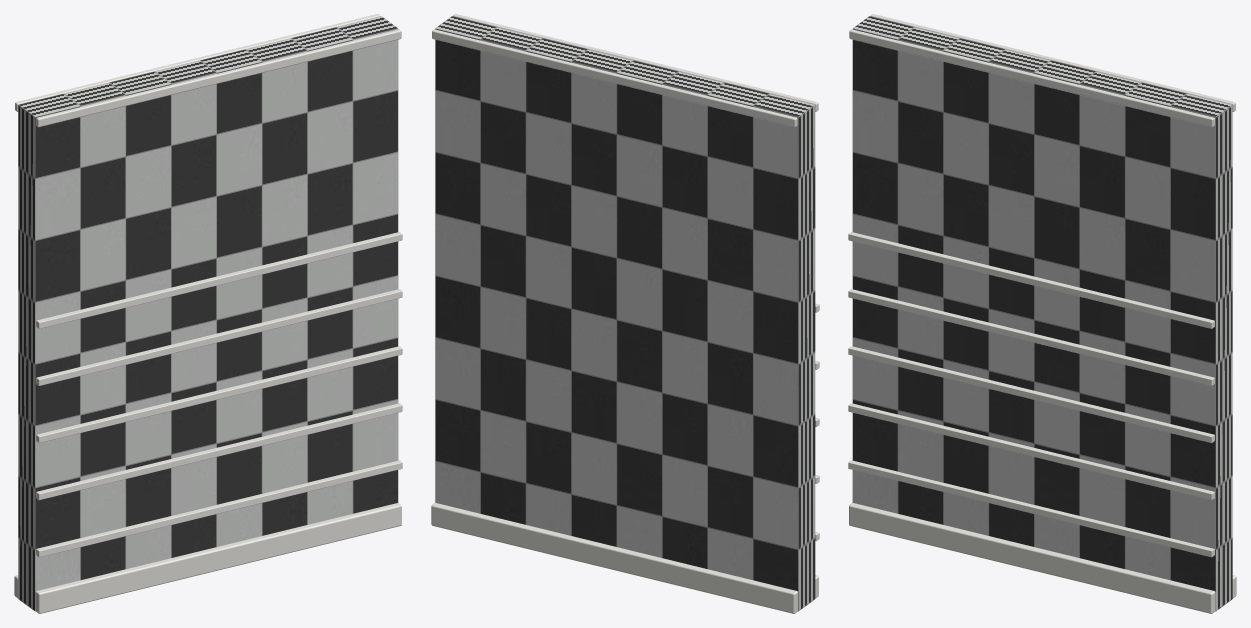
The model's file is paranormal-investigation-house-bathroom-wall-250cb1da__26700.glb.
3 renders of one model, left to right at view 1: azimuth 30°, elevation 25°; view 2: azimuth 150°, elevation 25°; view 3: azimuth 330°, elevation 25°, orthographic.
Visible parts, largest first — view 1: bathroom-wall; view 2: bathroom-wall; view 3: bathroom-wall.
Part boxes in pixels (left/top/right/bottom): bathroom-wall: left=14, top=14, right=402, bottom=613; bathroom-wall: left=431, top=14, right=819, bottom=613; bathroom-wall: left=848, top=14, right=1236, bottom=613.
Bounding box in the file's own units: 2 × 2.6 × 0.2399.
Materials: 2 (1 with a texture image).
